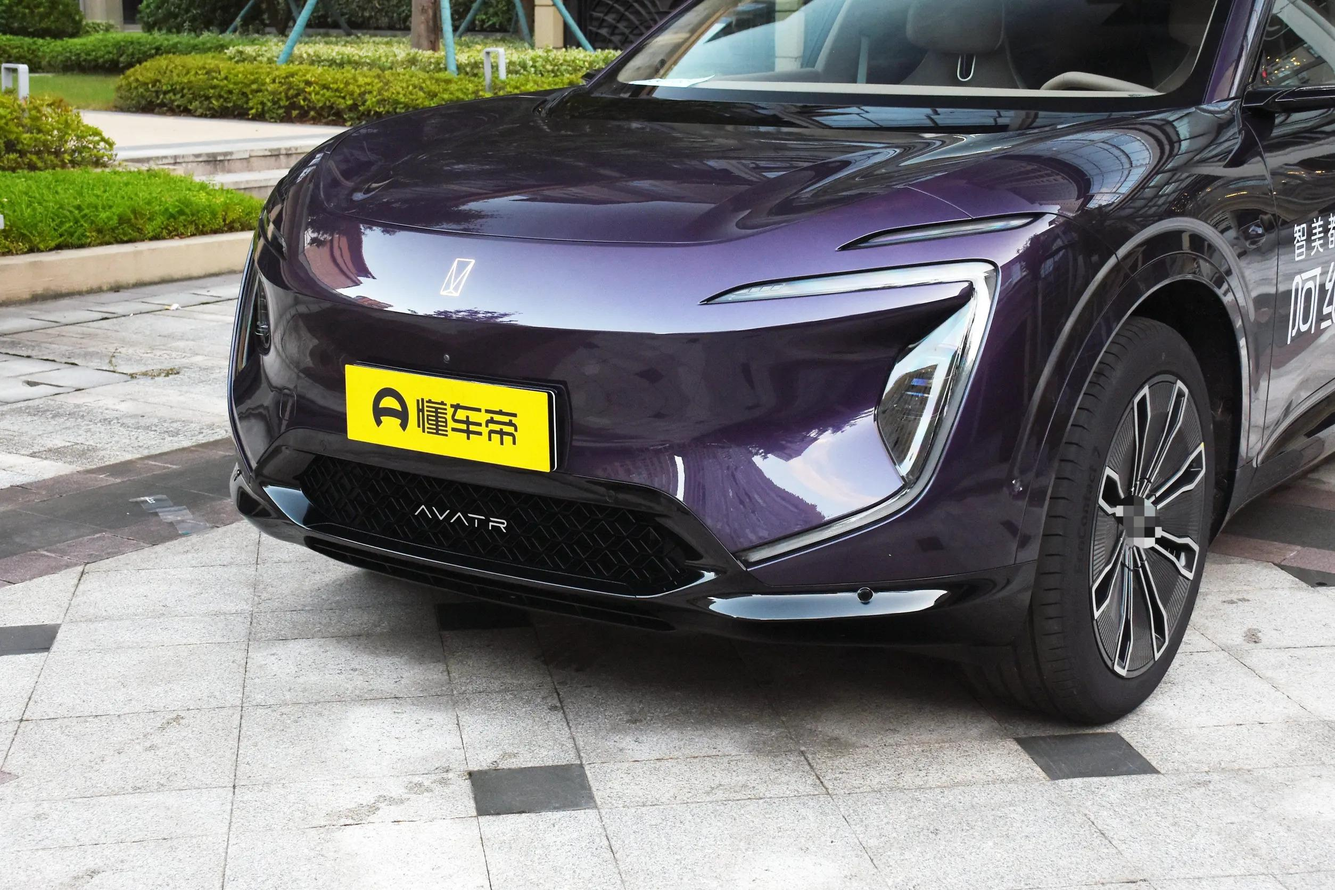AVATR: (440, 259, 475, 296)
